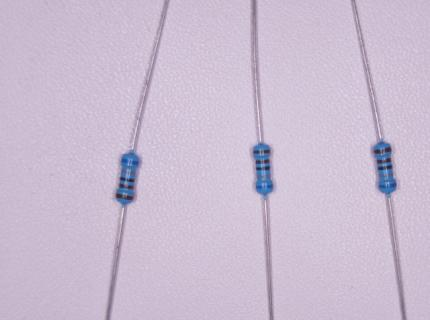Black band: (378, 165, 392, 171), (120, 177, 134, 182), (256, 166, 270, 171)
Blue band: (121, 159, 139, 165), (380, 183, 396, 188), (257, 185, 273, 188)
Brown band: (116, 193, 133, 200), (374, 147, 391, 154), (119, 184, 134, 190), (253, 149, 270, 154), (377, 158, 390, 164), (255, 159, 270, 164)
Grey band: (122, 169, 136, 175), (379, 172, 393, 178), (258, 174, 270, 178)
